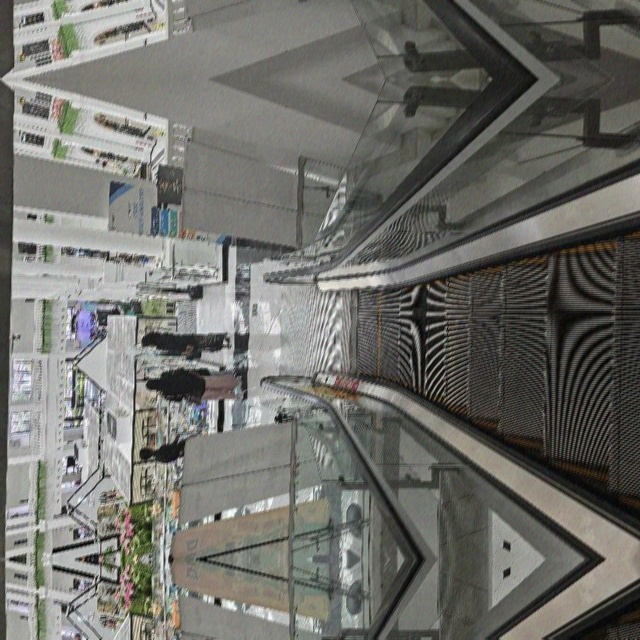person: (155, 225, 190, 323), (205, 222, 227, 310), (181, 239, 192, 317)
stair: (105, 369, 334, 640), (105, 401, 334, 640)
